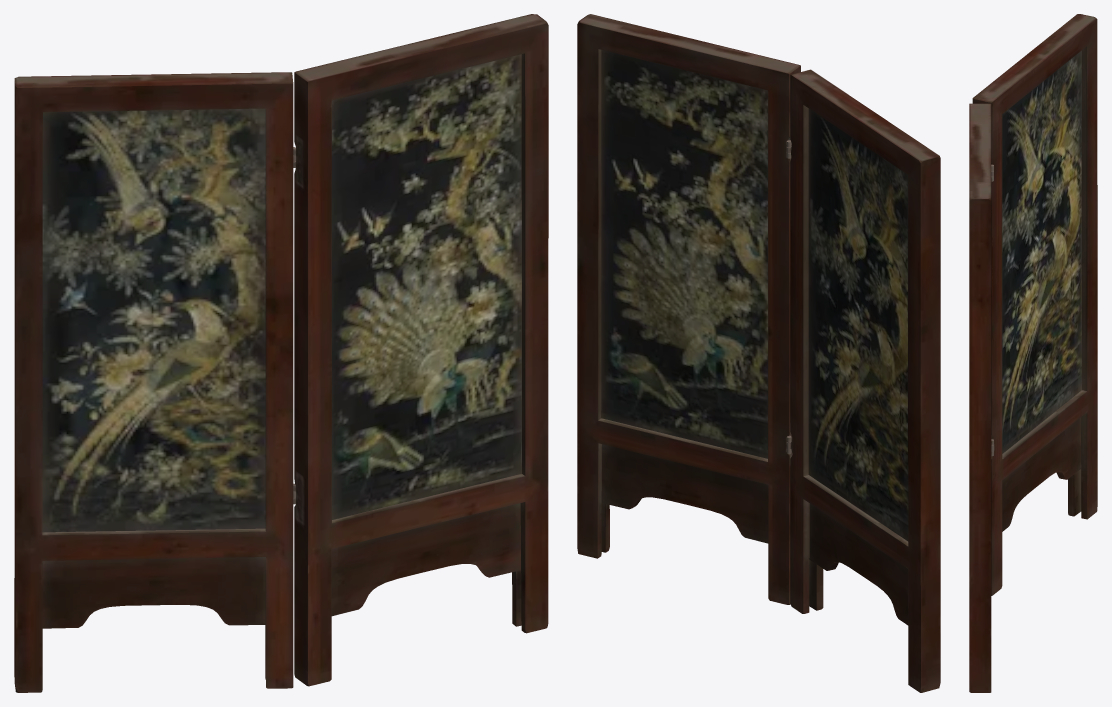
File: chinese_screen_panels.glb
3 views of the same model, side by side, from view 1: azimuth 30°, elevation 25°; view 2: azimuth 150°, elevation 25°; view 3: azimuth 270°, elevation 25° (orthographic). The views are drawn at different scales.
Visible parts, largest first — view 1: chinese_screen_panels_a; view 2: chinese_screen_panels_a; view 3: chinese_screen_panels_a.
Boxes of the visible parts, x1,y1,x2,y2 form: chinese_screen_panels_a: [14, 14, 548, 692]; chinese_screen_panels_a: [577, 14, 940, 692]; chinese_screen_panels_a: [969, 14, 1097, 692].
Size of the model in its own units: 1.29 by 1.6 by 0.3769.
Materials: 1 (1 with a texture image).
